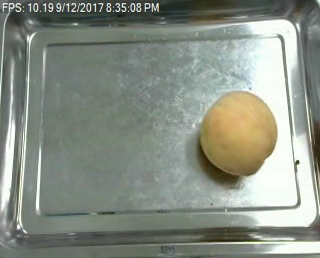Peach: (198, 90, 278, 176)
